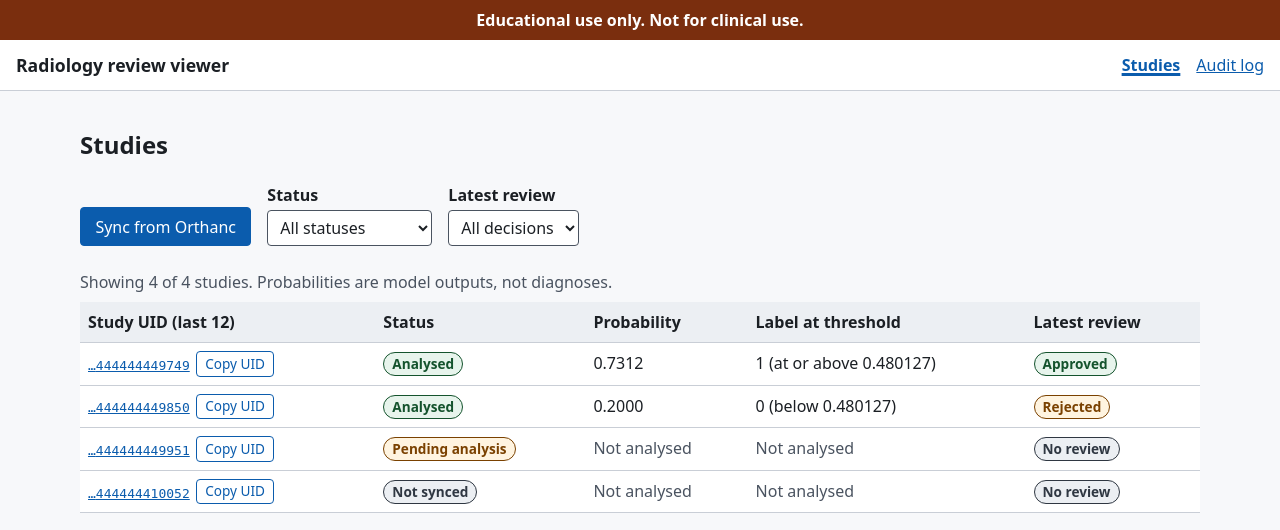
Test: study list › filters by status and by latest review decision, together
Select "Pending analysis" in the dropdown labelled "Status" at (350, 228), box [267,210,432,246]
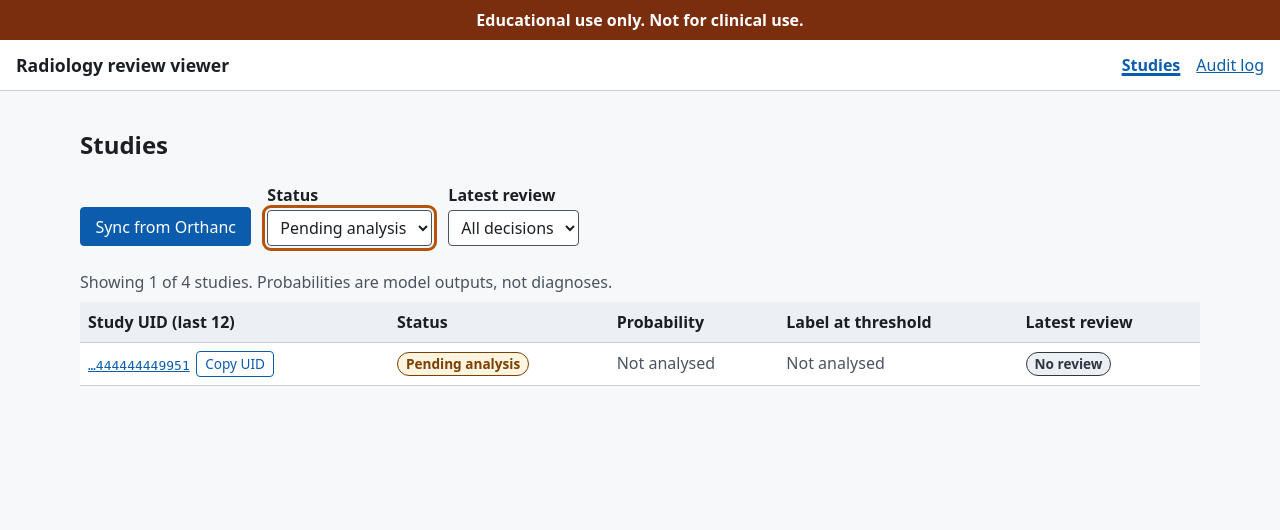
Now the text "Showing 1 of 4 studies" is shown, box [80,271,612,293]
Select "All statuses" in the dropdown labelled "Status" at (350, 228), box [267,210,432,246]
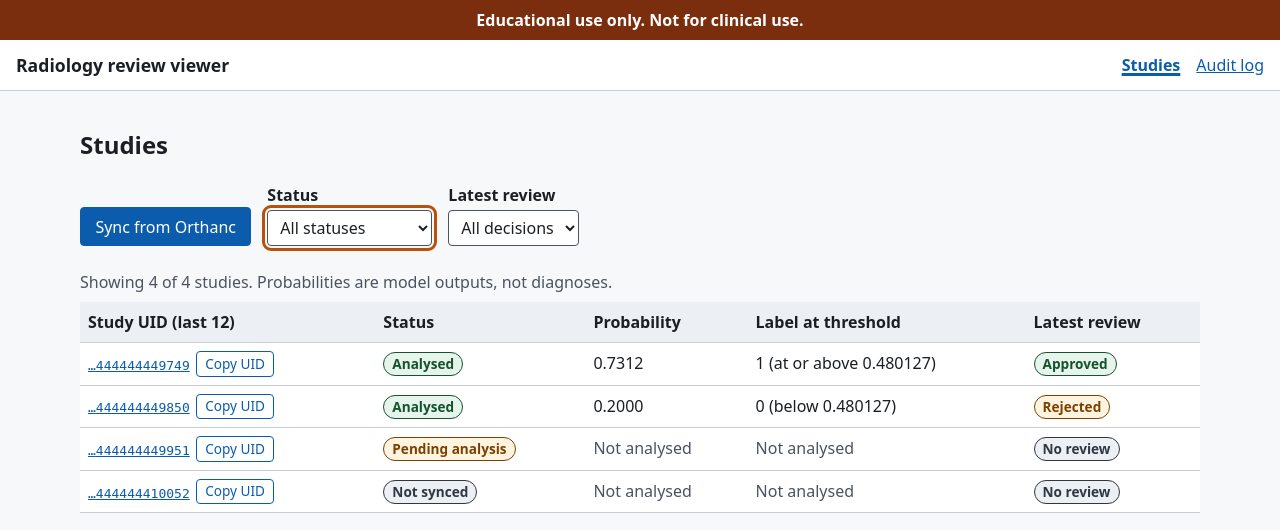
Select "No review" in the dropdown labelled "Latest review" at (514, 228), box [448,210,579,246]
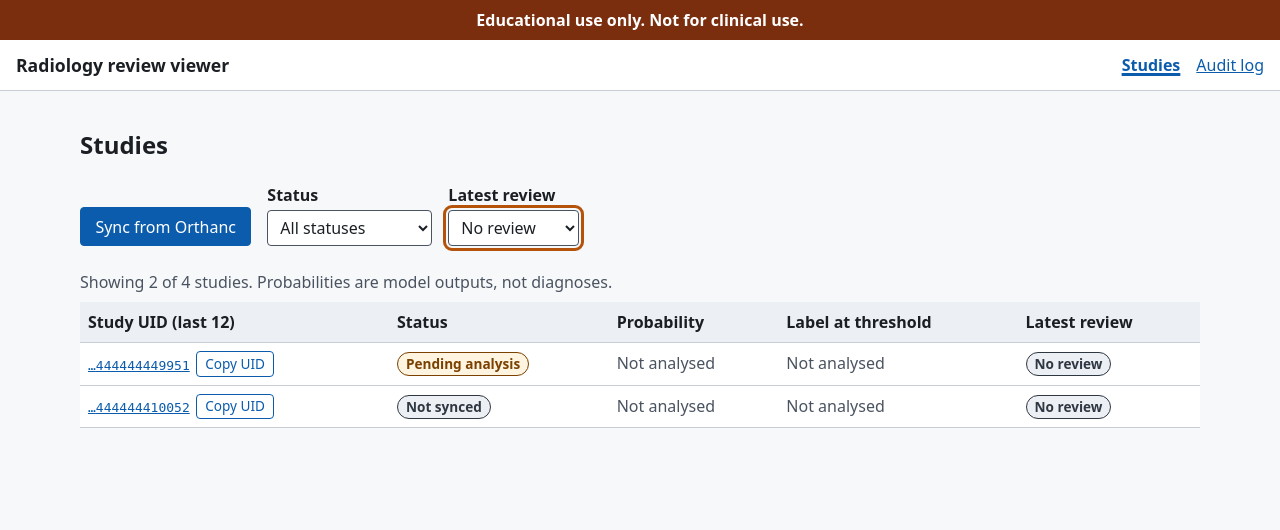
Select "Analysed" in the dropdown labelled "Status" at (350, 228), box [267,210,432,246]
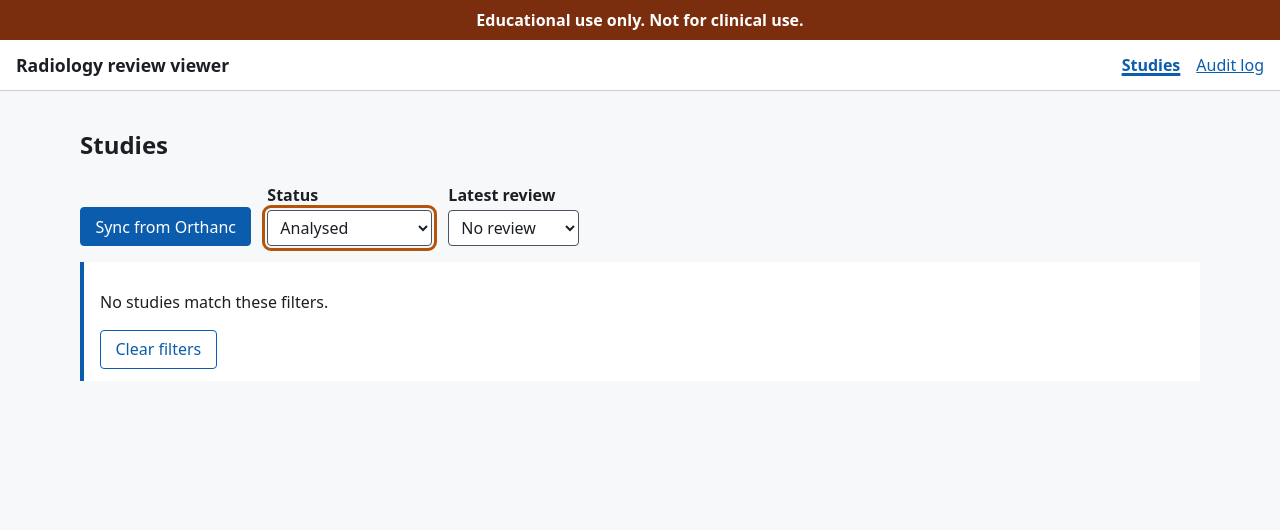
Select "Rejected" in the dropdown labelled "Latest review" at (514, 228), box [448,210,579,246]
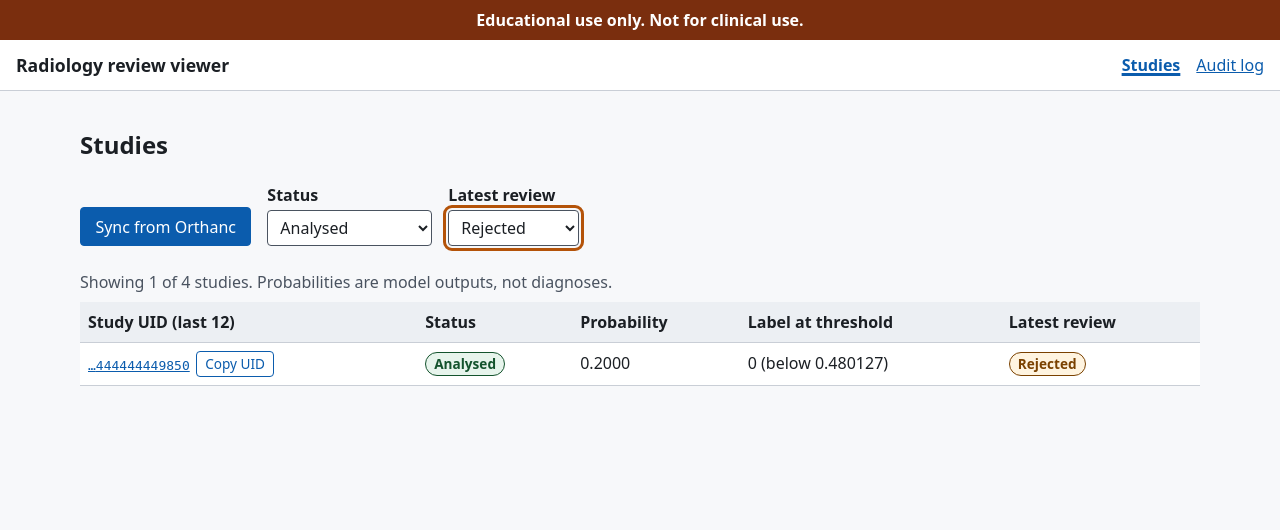
Now the text "Rejected" is shown, box [1009,352,1086,376]
